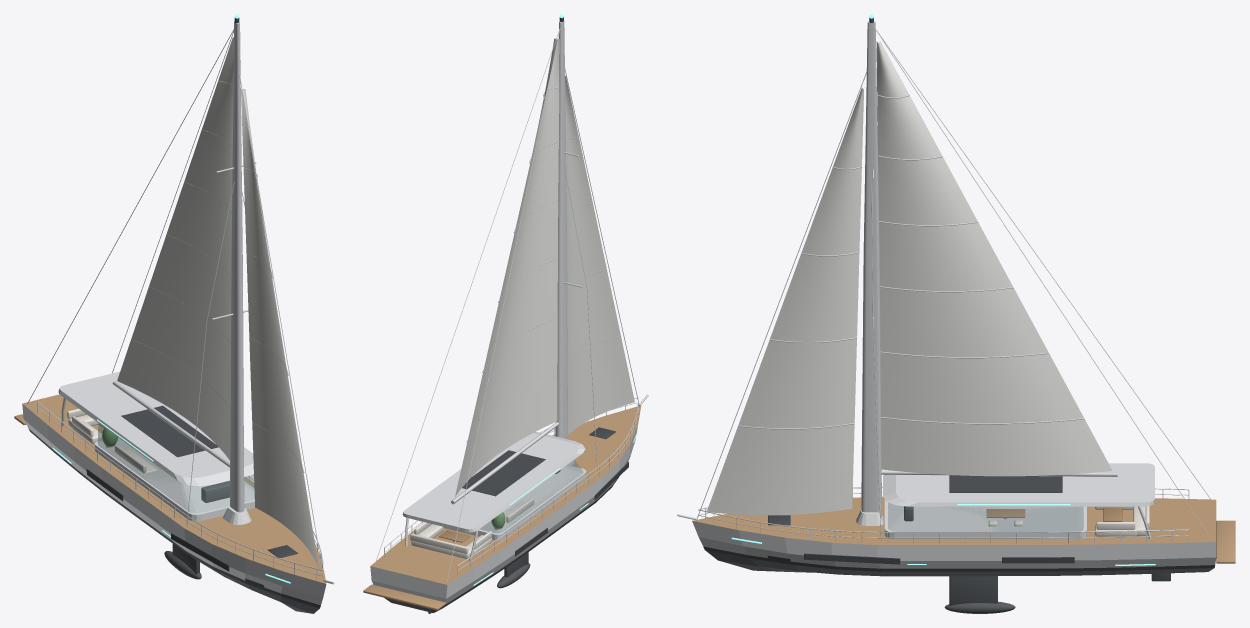
Rendered from sail-yacht.glb.
3 renders of one model, left to right at view 1: azimuth 30°, elevation 25°; view 2: azimuth 150°, elevation 25°; view 3: azimuth 270°, elevation 25°, orthographic. The views are drawn at different scales.
Visible parts, largest first — view 1: yacht_mainsail, yacht_hull, yacht_jib, yacht_hardtop, yacht_mast, yacht_saloon_glass, yacht_saloon_base, yacht_skylight, yacht_rail0, yacht_forestay, yacht_boom, yacht_backstay-1 (+3 smaller); view 2: yacht_mainsail, yacht_jib, yacht_hull, yacht_hardtop, yacht_mast, yacht_saloon_base, yacht_saloon_glass, yacht_skylight, yacht_rail0, yacht_swim_platform, yacht_backstay-1, yacht_backstay+1 (+3 smaller); view 3: yacht_mainsail, yacht_jib, yacht_hull, yacht_mast, yacht_hardtop, yacht_saloon_base, yacht_saloon_glass, yacht_skylight, yacht_rail0, yacht_keel, yacht_swim_platform.
Boxes of the visible parts, bbox=[...] form: yacht_mainsail: bbox=[117, 37, 233, 460]; yacht_hull: bbox=[22, 394, 326, 613]; yacht_jib: bbox=[241, 89, 318, 568]; yacht_hardtop: bbox=[58, 371, 253, 486]; yacht_mast: bbox=[230, 21, 244, 512]; yacht_saloon_glass: bbox=[97, 423, 254, 512]; yacht_saloon_base: bbox=[94, 437, 254, 521]; yacht_skylight: bbox=[121, 405, 218, 457]; yacht_rail0: bbox=[37, 401, 323, 579]; yacht_forestay: bbox=[239, 73, 324, 579]; yacht_boom: bbox=[112, 381, 229, 467]; yacht_backstay-1: bbox=[27, 29, 233, 403]; yacht_mainsail: bbox=[455, 38, 559, 496]; yacht_jib: bbox=[565, 75, 634, 434]; yacht_hull: bbox=[370, 405, 641, 612]; yacht_hardtop: bbox=[402, 432, 585, 532]; yacht_mast: bbox=[555, 20, 567, 439]; yacht_saloon_base: bbox=[443, 465, 586, 540]; yacht_saloon_glass: bbox=[480, 459, 583, 533]; yacht_skylight: bbox=[462, 450, 545, 496]; yacht_rail0: bbox=[384, 397, 638, 575]; yacht_swim_platform: bbox=[363, 584, 445, 610]; yacht_backstay-1: bbox=[447, 29, 560, 581]; yacht_backstay+1: bbox=[375, 29, 559, 564]; yacht_mainsail: bbox=[876, 41, 1112, 476]; yacht_jib: bbox=[707, 87, 864, 515]; yacht_hull: bbox=[692, 496, 1216, 576]; yacht_mast: bbox=[861, 21, 881, 516]; yacht_hardtop: bbox=[883, 463, 1154, 506]; yacht_saloon_base: bbox=[884, 500, 1086, 539]; yacht_saloon_glass: bbox=[888, 502, 1083, 531]; yacht_skylight: bbox=[949, 475, 1062, 492]; yacht_rail0: bbox=[698, 486, 1189, 543]; yacht_keel: bbox=[949, 576, 997, 605]; yacht_swim_platform: bbox=[1216, 520, 1235, 563].
Size of the model in its own units: 7.46 by 40.8 by 34.52.
